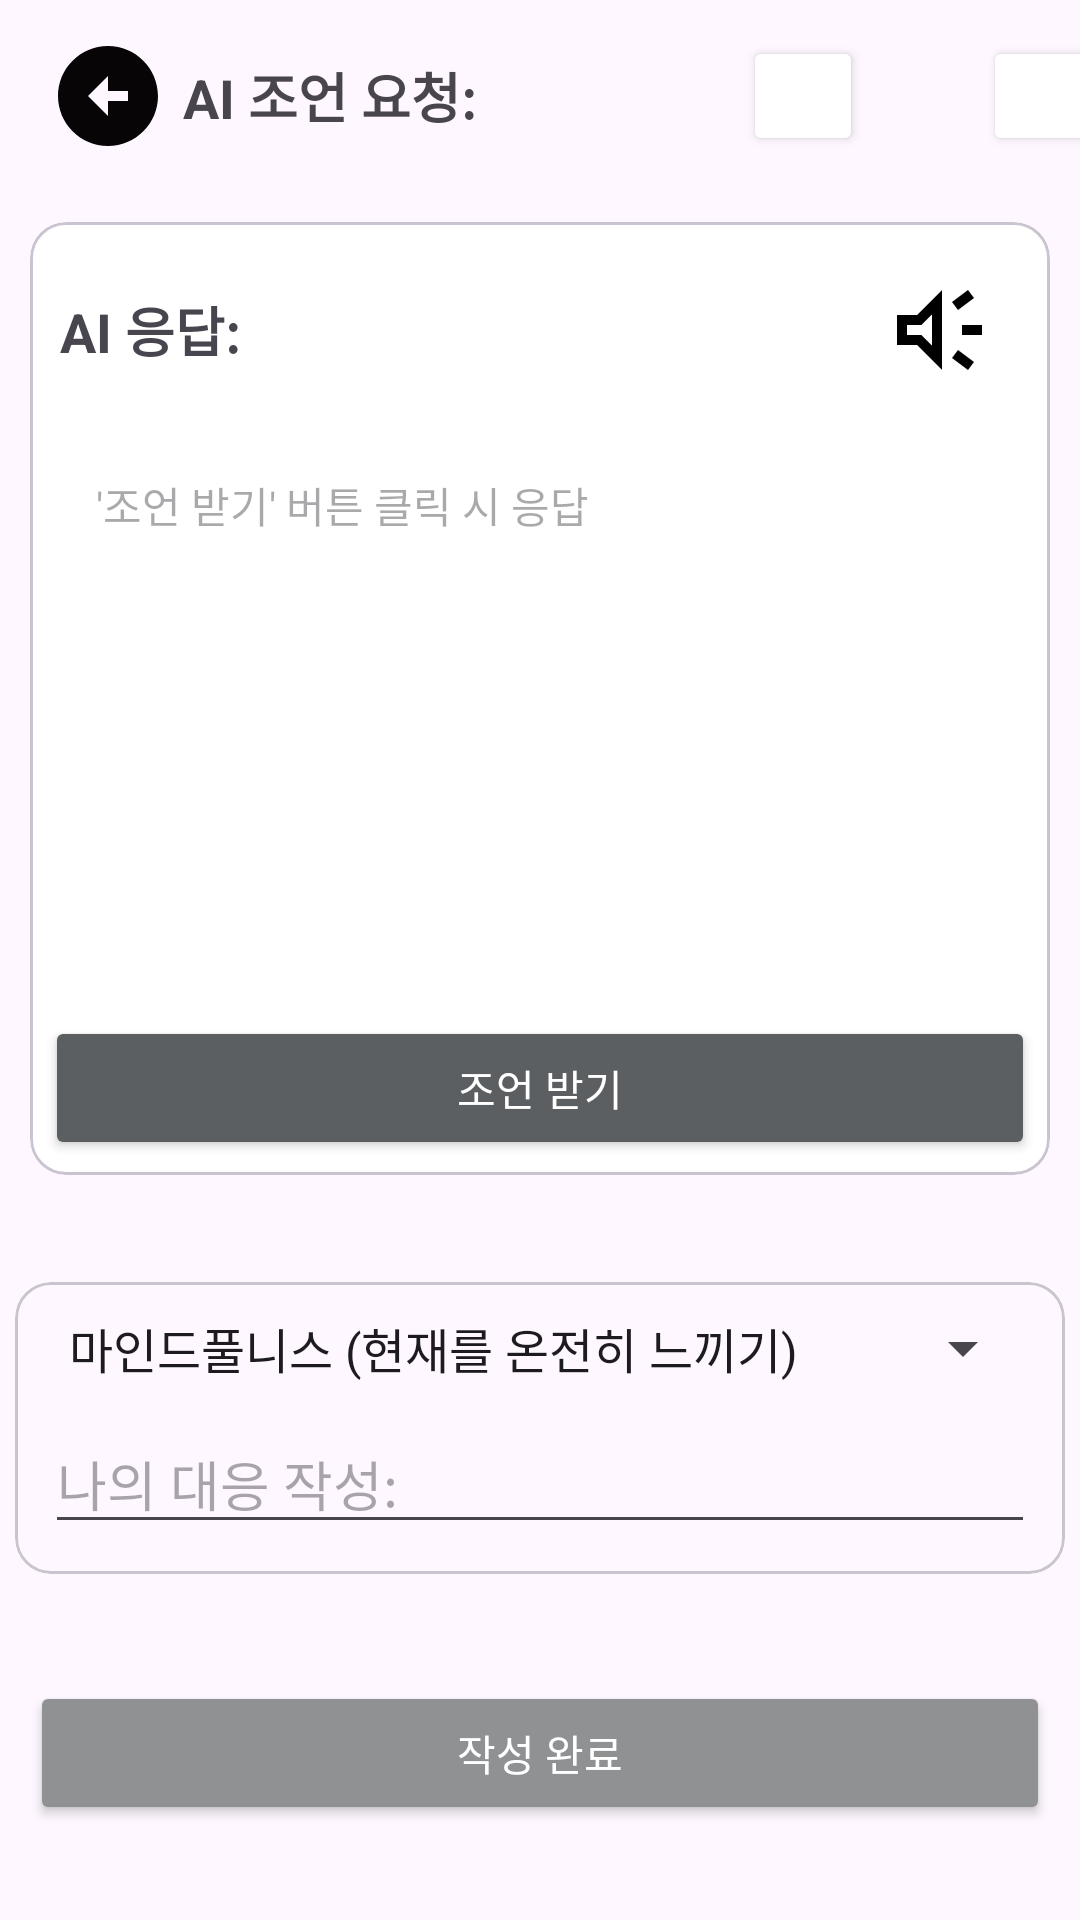

Point at icon controls on the screen. Image size 1080w x 1920h, points as (x=x, y=y).
소리: (x=939, y=330)
이전 화면으로 돌아가기: (x=108, y=96)
